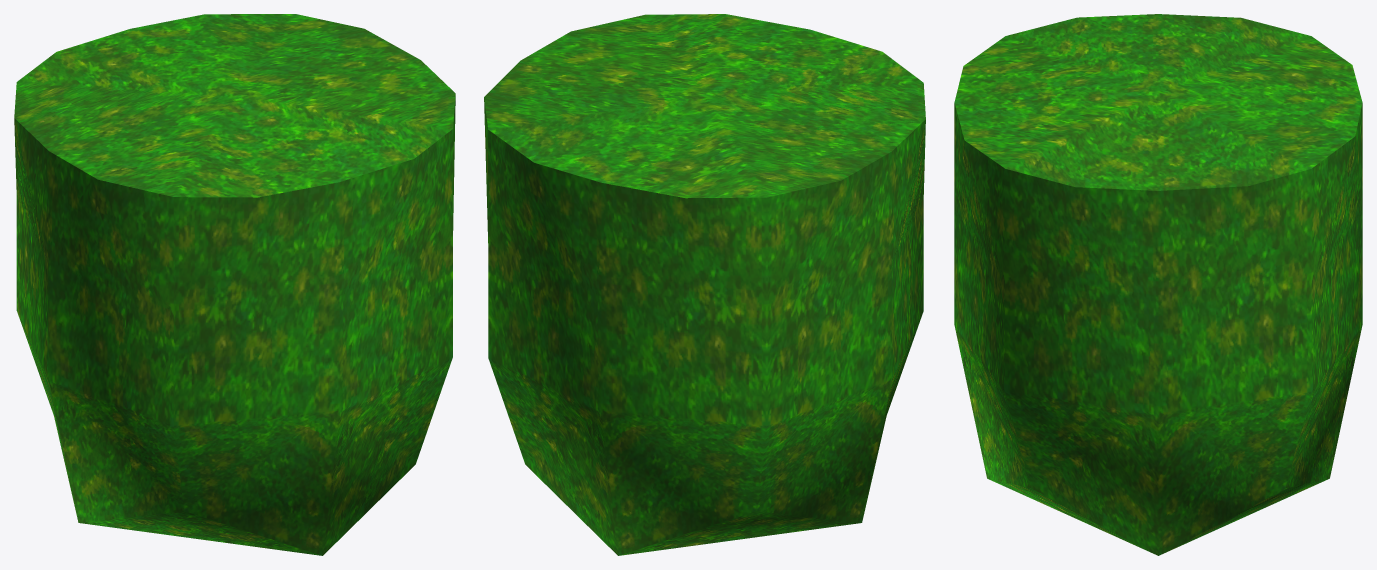
File: INST_HTOWN_CLIFFPIECEA.fbx
3 views of the same model, side by side, from view 1: azimuth 30°, elevation 25°; view 2: azimuth 150°, elevation 25°; view 3: azimuth 270°, elevation 25° (orthographic). The views are drawn at different scales.
Parts seen in each view (by area): view 1: INST_HTOWN_CLIFFPIECEA; view 2: INST_HTOWN_CLIFFPIECEA; view 3: INST_HTOWN_CLIFFPIECEA.
Boxes of the visible parts, x1,y1,x2,y2 form: INST_HTOWN_CLIFFPIECEA: (14, 14, 455, 555); INST_HTOWN_CLIFFPIECEA: (484, 14, 925, 555); INST_HTOWN_CLIFFPIECEA: (954, 14, 1362, 555).
Bounding box in the file's own units: 26789 × 30519 × 26109.
Materials: 1 (1 with a texture image).
